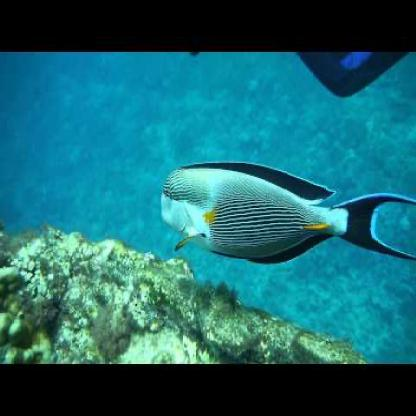surgeon: (152, 153, 416, 275)
